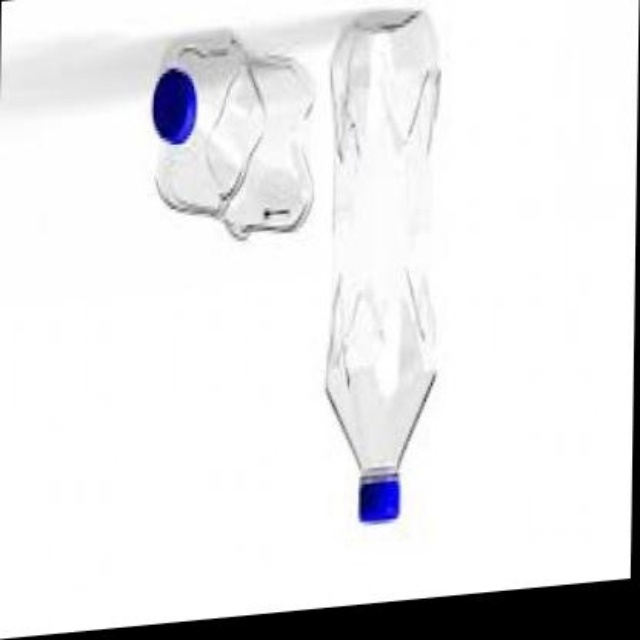trash: (326, 11, 438, 520), (152, 31, 312, 237)
